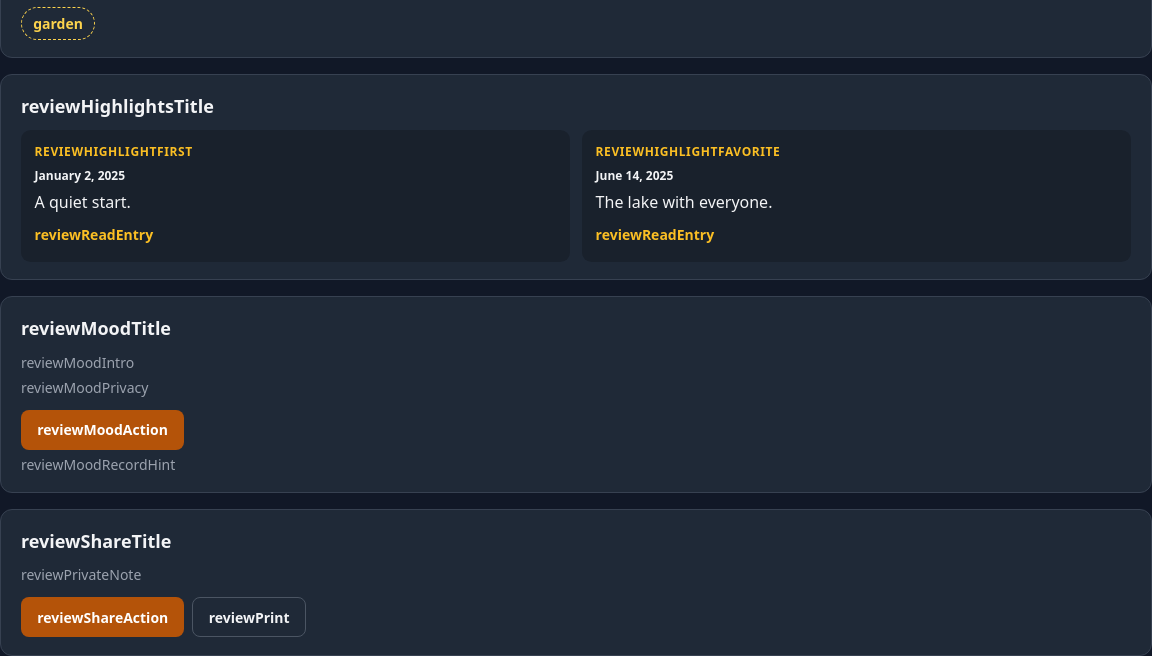
Test: YearReviewPage › keeps the form open when posting fails, and can be cancelled
(page scrolled)
Step 1. Click the button "reviewShareAction" → (103,617), box [21, 597, 184, 637]
(page scrolled)
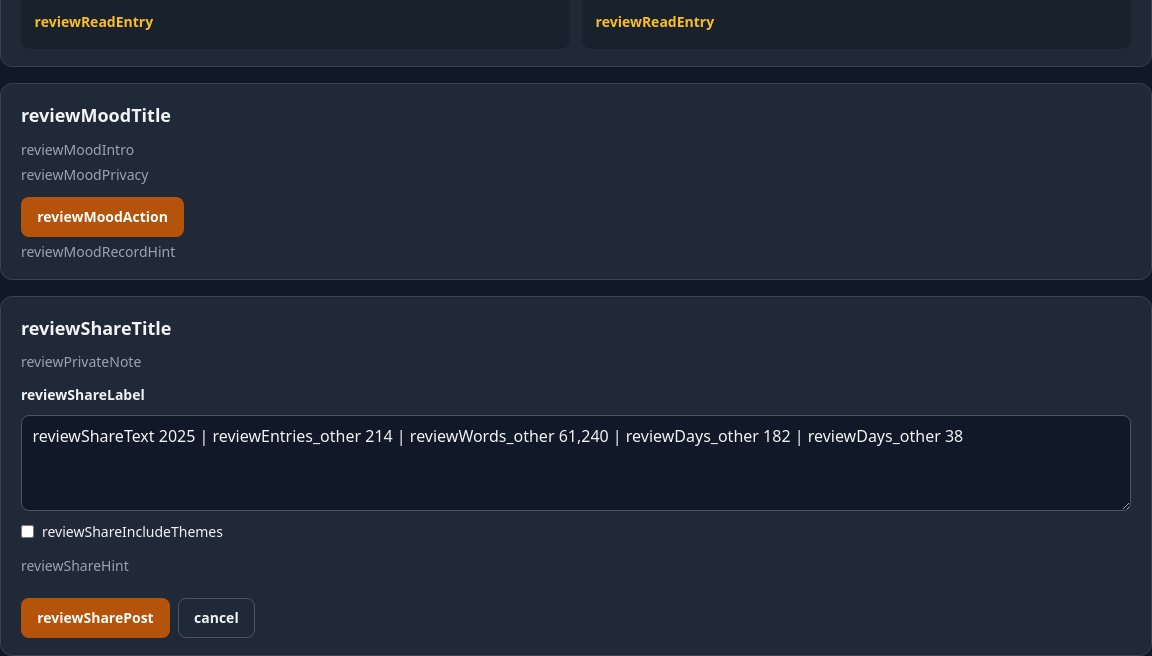
Step 2. Click the button "reviewSharePost" → (95,618), box [21, 598, 170, 638]
(page scrolled)
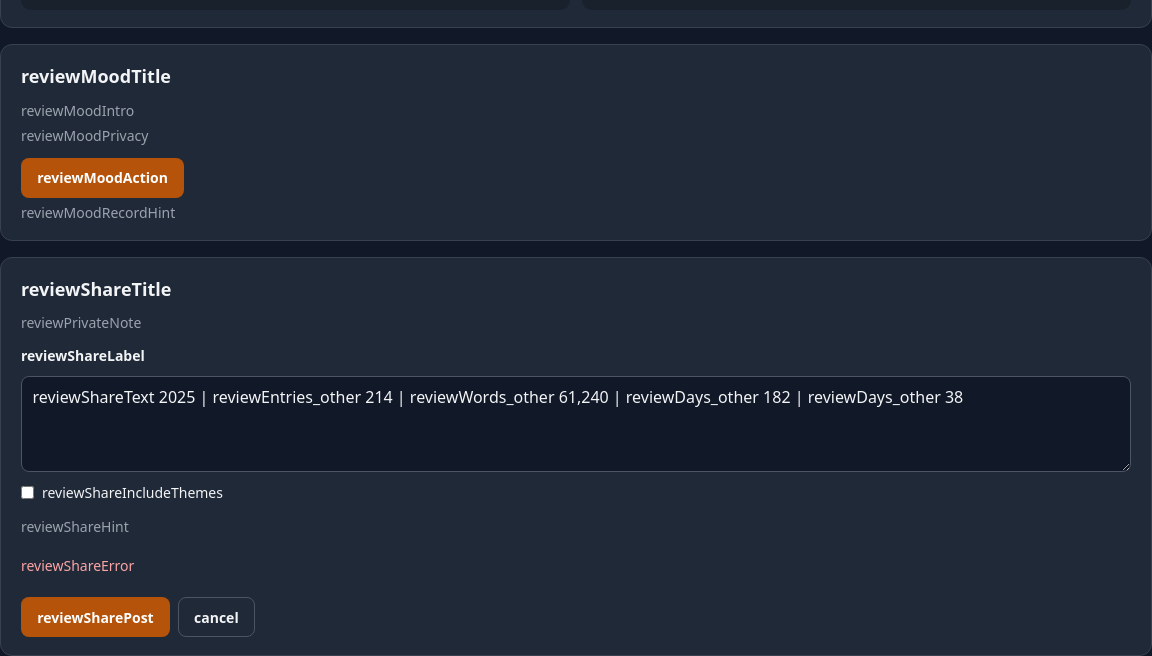
expect the message reads "reviewShareError": met, box [21, 556, 134, 575]
Step 3. Click the button "cancel" → (216,617), box [178, 597, 255, 637]
(page scrolled)
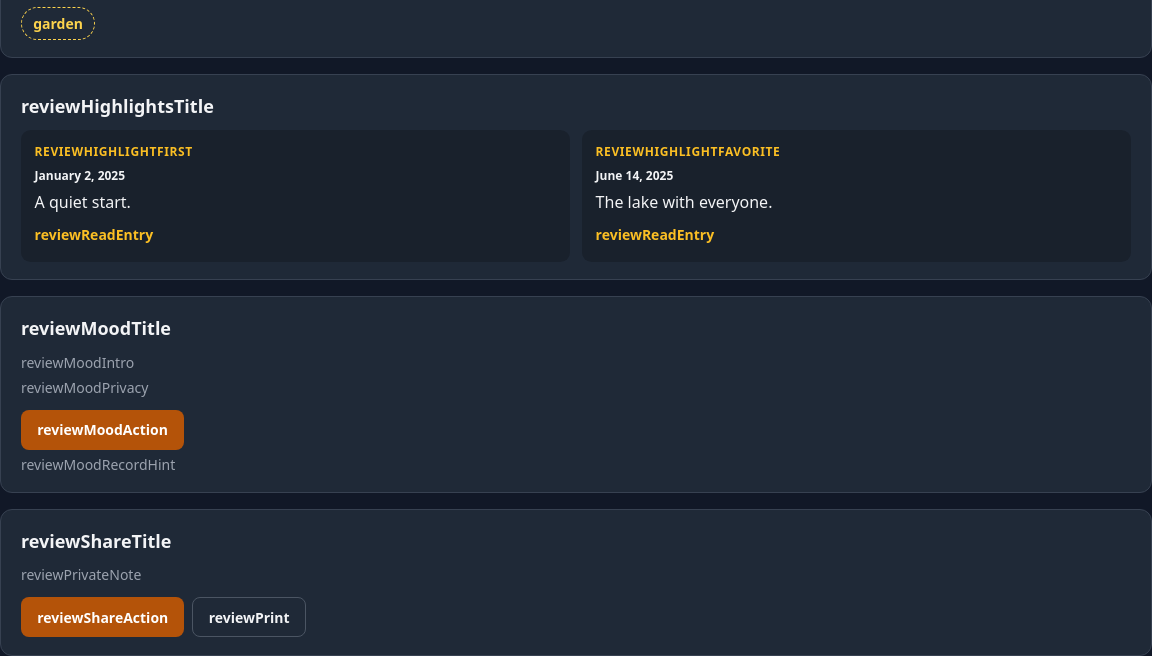
expect the button "reviewShareAction" is shown: met, box [21, 597, 184, 637]
